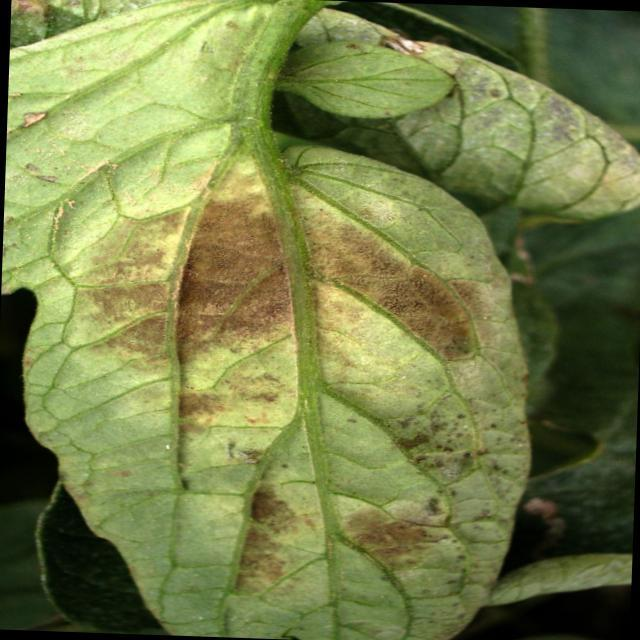Mosaic Virus: (53, 166, 484, 614)
